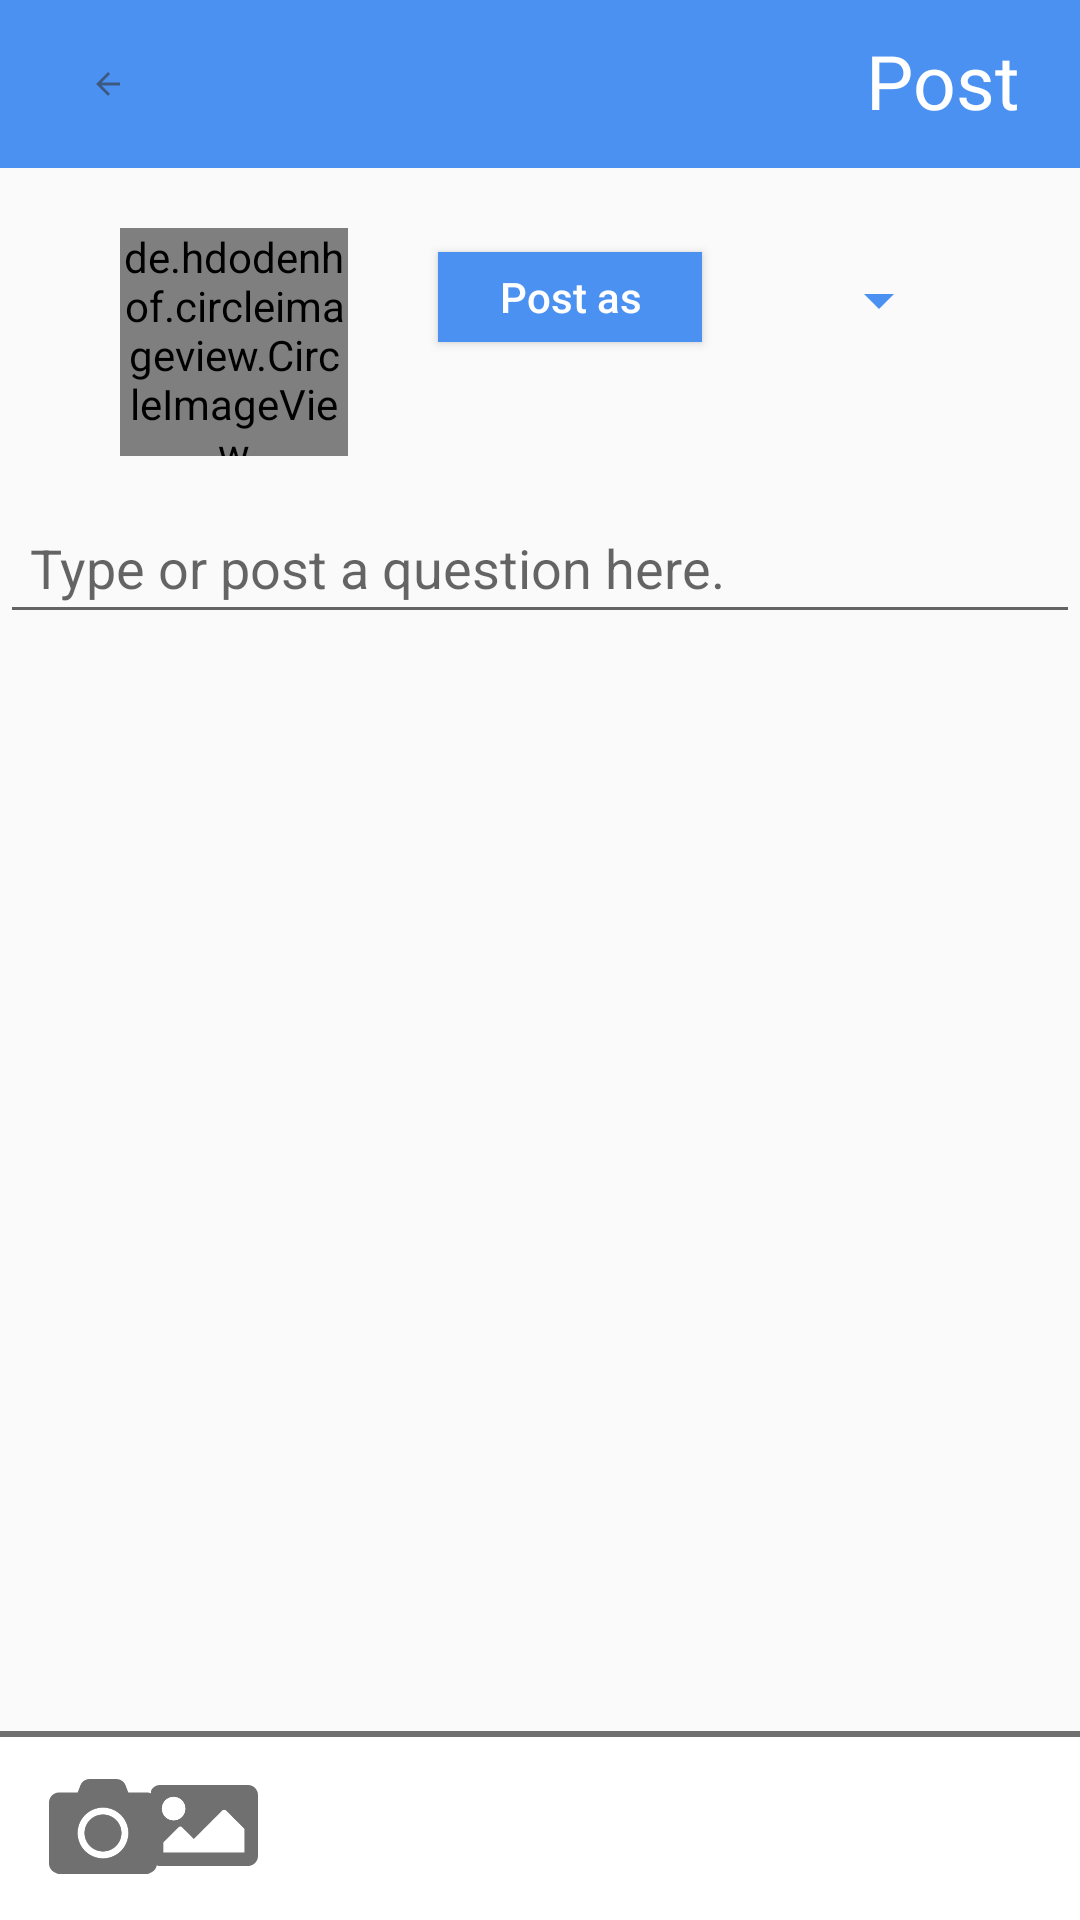

Icons on this 1080 × 1920 Android screen, each with the point to tap as (x=x, y=y):
back: (x=108, y=84)
camera: (x=106, y=1826)
